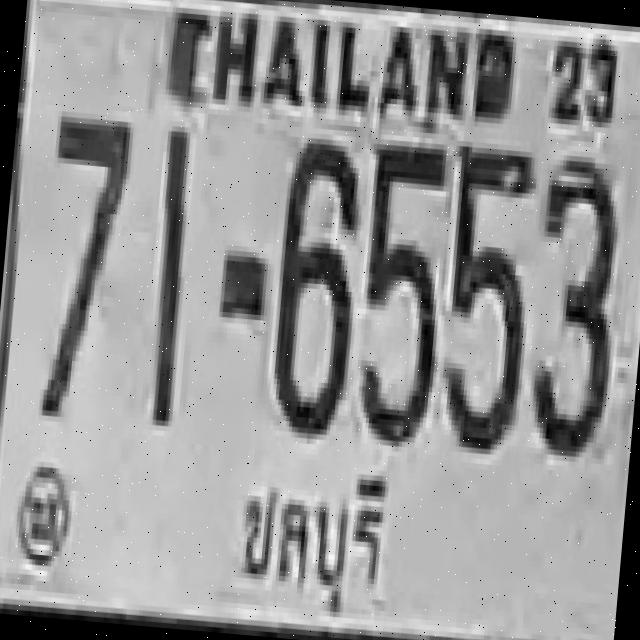1: (142, 122, 196, 424)
3: (522, 154, 626, 458)
5: (433, 144, 538, 454), (350, 141, 452, 446)
6: (264, 136, 366, 436)
7: (32, 110, 131, 420), (35, 111, 131, 379)
Chonburi: (220, 446, 406, 630)
